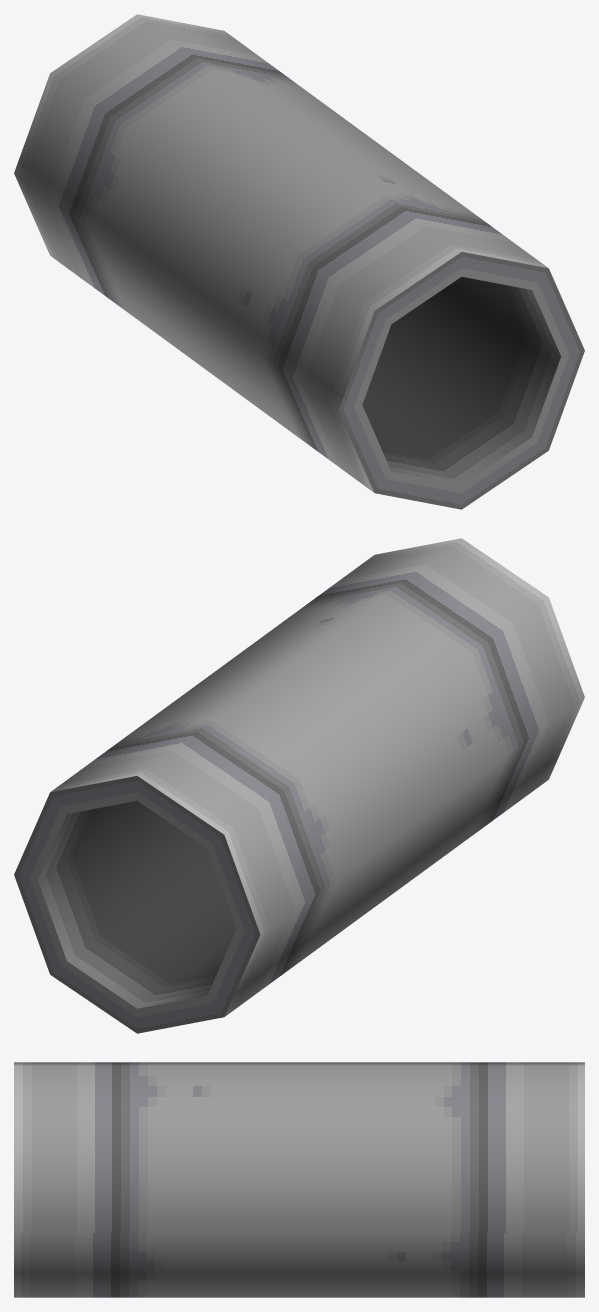
3 views of the same model, one above another, from view 1: azimuth 30°, elevation 25°; view 2: azimuth 150°, elevation 25°; view 3: azimuth 270°, elevation 25° (orthographic). The views are drawn at different scales.
Visible parts, largest first — view 1: polygon0; view 2: polygon0; view 3: polygon0.
Boxes of the visible parts, left/top/right/bottom form: polygon0: left=14, top=14, right=584, bottom=509; polygon0: left=14, top=538, right=584, bottom=1033; polygon0: left=14, top=1062, right=584, bottom=1297.
Size of the model in its own units: 5.92 by 5.92 by 13.5.
1 material, 1 textured.
